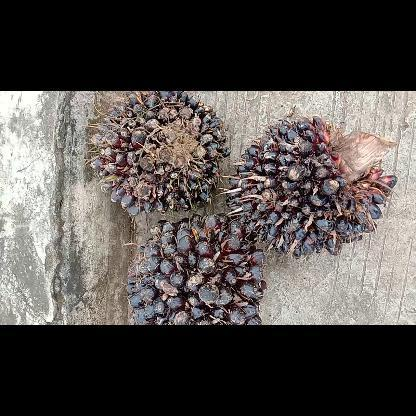TBS mentah: (224, 114, 400, 258), (86, 91, 232, 219), (122, 212, 270, 324)
